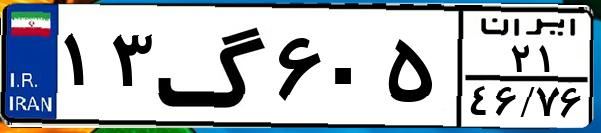0: (330, 28, 385, 110)
1: (57, 26, 110, 100), (537, 27, 568, 80)
2: (508, 27, 537, 80)
3: (110, 28, 156, 98)
4: (470, 70, 495, 125)
5: (385, 28, 445, 110)
6: (270, 28, 330, 110), (560, 70, 590, 125), (495, 70, 520, 125)
7: (535, 70, 560, 125)
گ: (156, 12, 270, 120)
